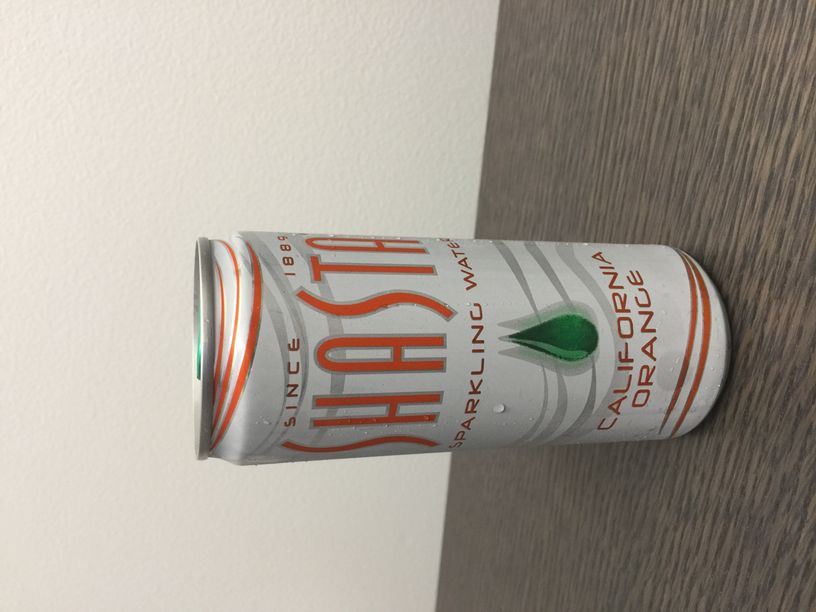competitor_01: (184, 224, 741, 474)
